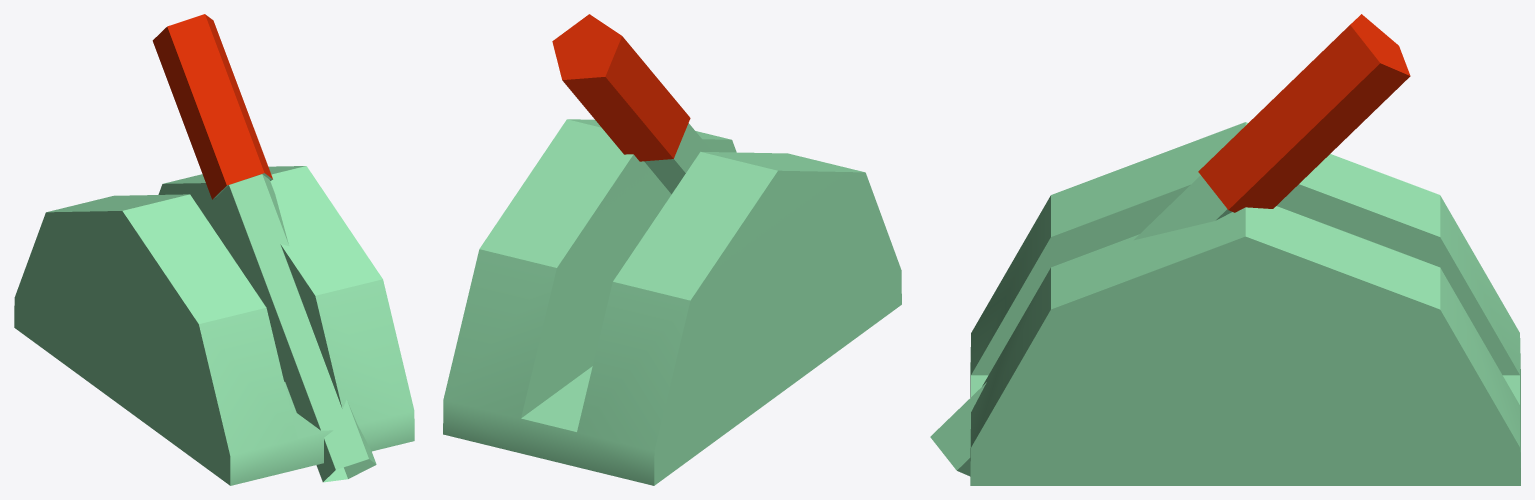
Rendered from SM_Lever.fbx.
3 views of the same model, side by side, from view 1: azimuth 30°, elevation 25°; view 2: azimuth 150°, elevation 25°; view 3: azimuth 270°, elevation 25° (orthographic). The views are drawn at different scales.
Parts seen in each view (by area): view 1: pCylinder1, pCylinder2; view 2: pCylinder1, pCylinder2; view 3: pCylinder1, pCylinder2.
Part boxes in pixels (x1,y1,x2,y2): pCylinder1: (14, 166, 414, 485); pCylinder2: (152, 14, 376, 482); pCylinder1: (443, 119, 901, 485); pCylinder2: (552, 14, 712, 194); pCylinder1: (970, 122, 1520, 485); pCylinder2: (930, 14, 1410, 476).
Size of the model in its own units: 0.3927 by 0.7324 by 0.8564.
